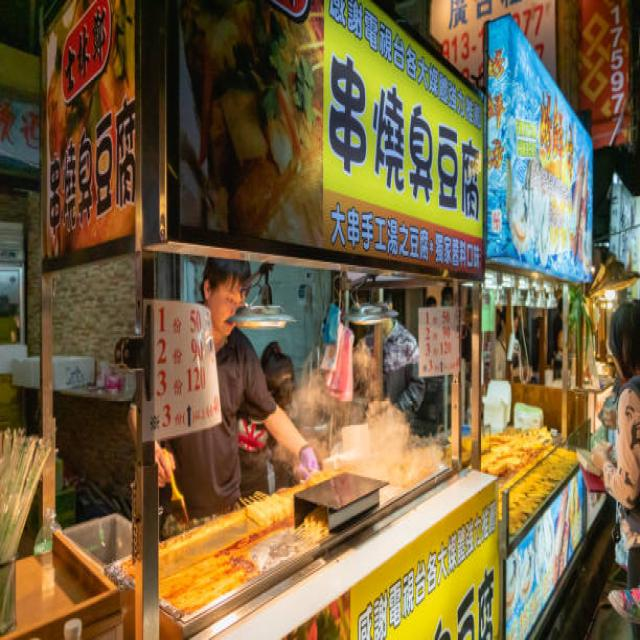Emperan: (26, 0, 508, 640), (454, 0, 640, 640)
